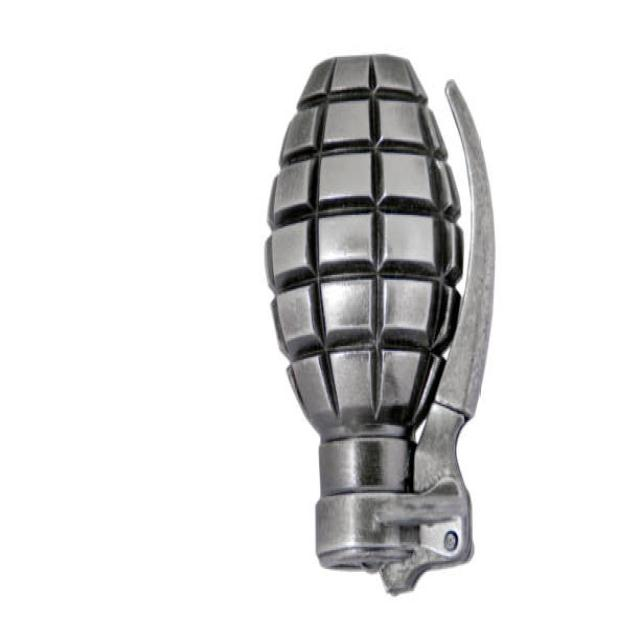grenade: (257, 47, 505, 606)
